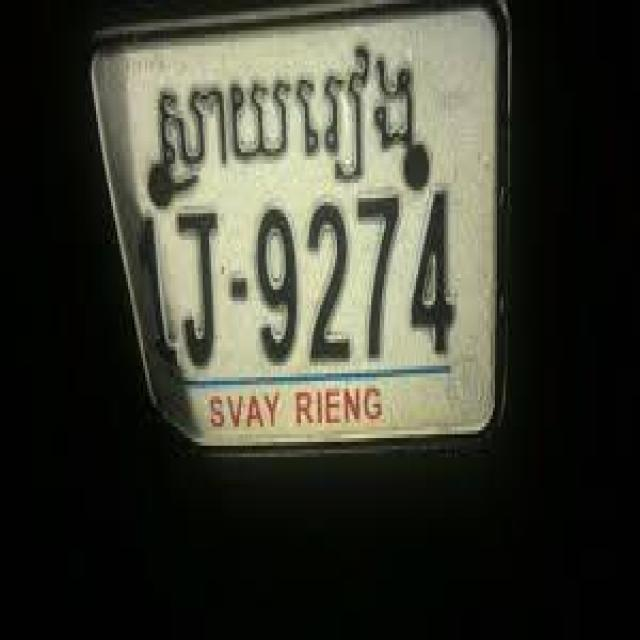Svay_Rieng: (162, 46, 413, 198)
